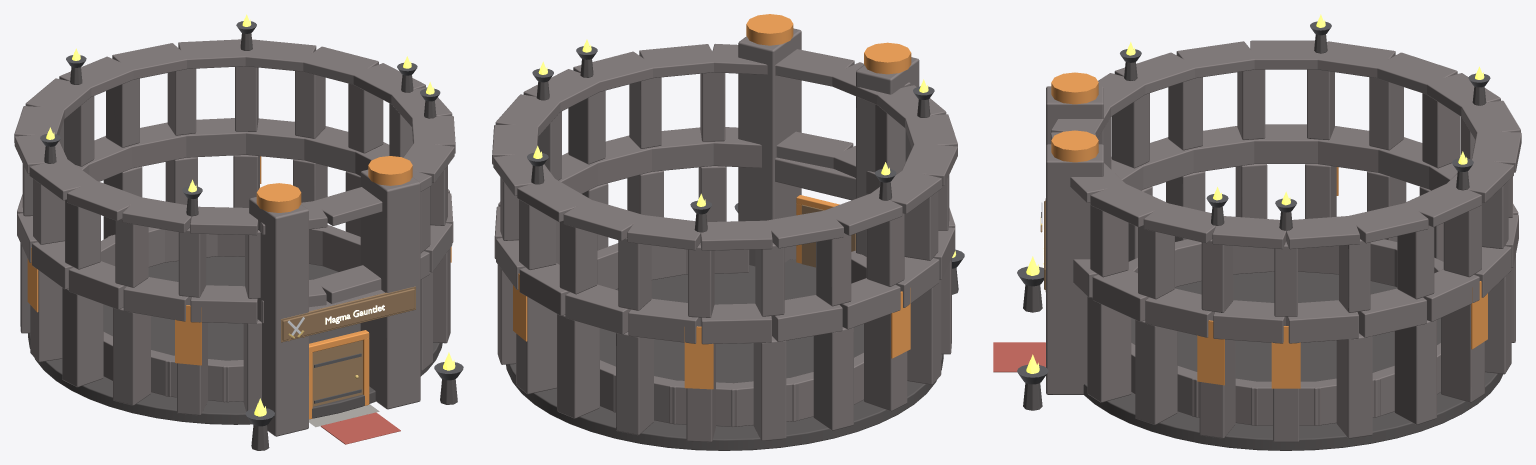
The model's file is magma_gauntlet.fbx.
3 renders of one model, left to right at view 1: azimuth 30°, elevation 25°; view 2: azimuth 150°, elevation 25°; view 3: azimuth 270°, elevation 25°, orthographic. The views are drawn at different scales.
Parts seen in each view (by area): view 1: magma_gauntlet; view 2: magma_gauntlet; view 3: magma_gauntlet.
Part boxes in pixels (x1=…): magma_gauntlet: x1=14, y1=14, x2=463, y2=450; magma_gauntlet: x1=492, y1=14, x2=964, y2=450; magma_gauntlet: x1=993, y1=14, x2=1521, y2=450.
Bounding box in the file's own units: 17.8 × 10.7 × 20.03.
